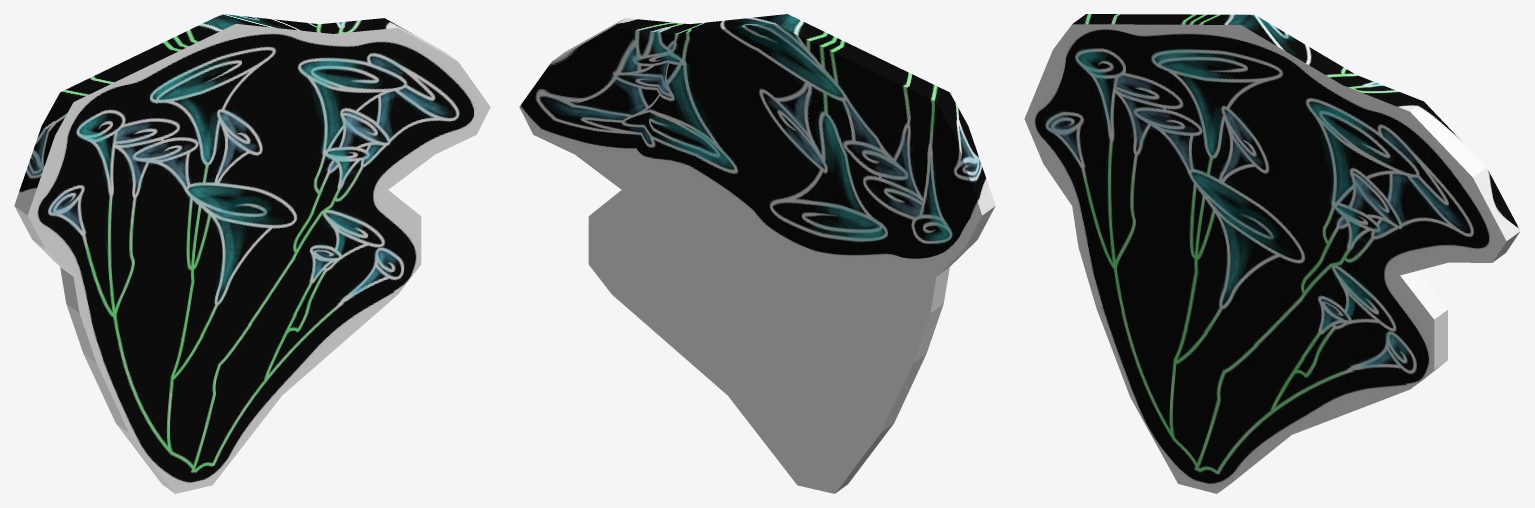
Rendered from bush_01_06.obj.
3 views of the same model, side by side, from view 1: azimuth 30°, elevation 25°; view 2: azimuth 150°, elevation 25°; view 3: azimuth 330°, elevation 25° (orthographic). The views are drawn at different scales.
Parts seen in each view (by area): view 1: MeshBody1; view 2: MeshBody1; view 3: MeshBody1.
Boxes of the visible parts, bbox=[...] form: MeshBody1: bbox=[14, 14, 490, 493]; MeshBody1: bbox=[519, 14, 995, 493]; MeshBody1: bbox=[1024, 14, 1520, 493].
Size of the model in its own units: 0.9989 by 0.94 by 0.05.
